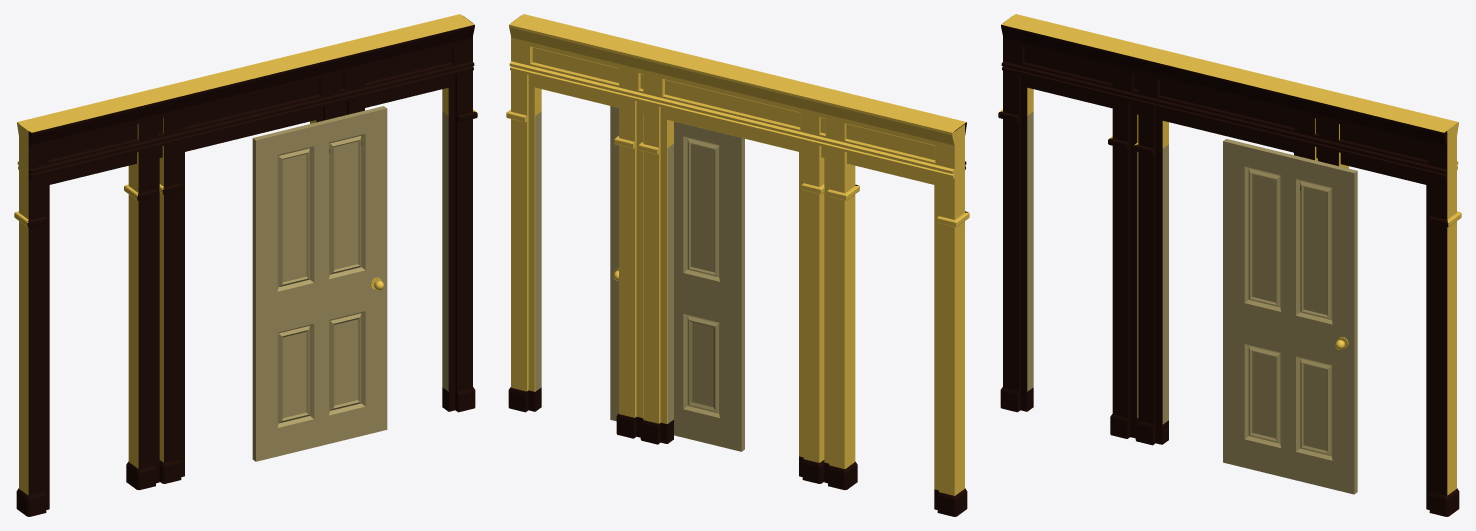
The model's file is Doors.fbx.
The picture shows the model from 3 angles, left to right: view 1: azimuth 30°, elevation 25°; view 2: azimuth 150°, elevation 25°; view 3: azimuth 330°, elevation 25°; orthographic projection.
Parts seen in each view (by area): view 1: Door, DoorBorder05, DoorBorder04, DoorBorder01; view 2: DoorBorder05, DoorBorder01, DoorBorder04, Door; view 3: Door, DoorBorder05, DoorBorder01, DoorBorder04.
Boxes of the visible parts, box(x1,y1,x2,y2) form: Door: box(252, 106, 387, 461); DoorBorder05: box(14, 14, 477, 516); DoorBorder04: box(124, 40, 366, 490); DoorBorder01: box(159, 57, 342, 483); DoorBorder05: box(506, 14, 969, 516); DoorBorder01: box(638, 57, 824, 483); DoorBorder04: box(614, 40, 859, 490); Door: box(610, 106, 744, 451); Door: box(1223, 139, 1357, 494); DoorBorder05: box(998, 14, 1461, 516); DoorBorder01: box(1133, 58, 1317, 445); DoorBorder04: box(1108, 41, 1350, 438).
Bounding box in the file's own units: 306 × 250 × 25.27.
